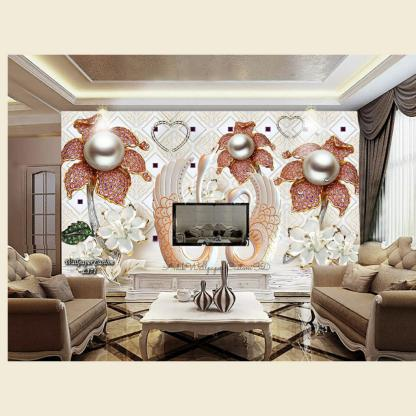bantal: (338, 261, 374, 292), (41, 276, 75, 302)
gelas: (175, 289, 191, 304)
meja: (140, 287, 273, 362)
sova: (310, 240, 416, 359), (8, 238, 107, 359)
tv: (170, 202, 252, 250)
